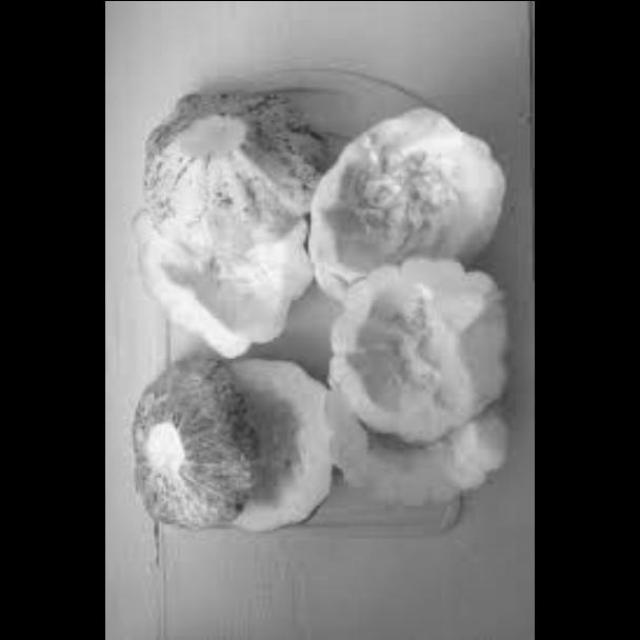squash: (296, 91, 512, 284), (124, 175, 323, 356), (136, 80, 344, 248), (320, 254, 516, 432), (208, 348, 337, 534), (126, 358, 253, 539), (314, 391, 510, 504)
